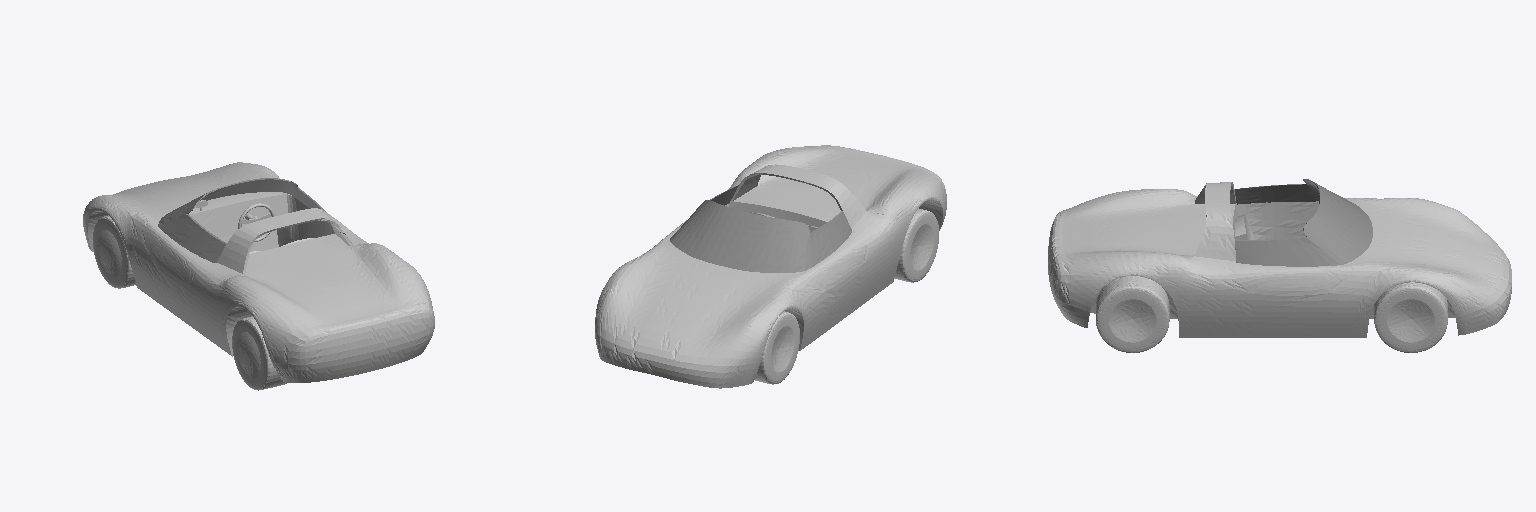
Rendered from car.obj.
The picture shows the model from 3 angles: view 1: azimuth 30°, elevation 25°; view 2: azimuth 150°, elevation 25°; view 3: azimuth 270°, elevation 25°; orthographic projection.
Parts seen in each view (by area): view 1: 10603_slot_car_blue_SG_v1_iterations-2; view 2: 10603_slot_car_blue_SG_v1_iterations-2; view 3: 10603_slot_car_blue_SG_v1_iterations-2.
Boxes of the visible parts, box(x1,y1,x2,y2) form: 10603_slot_car_blue_SG_v1_iterations-2: box(83, 162, 434, 390); 10603_slot_car_blue_SG_v1_iterations-2: box(595, 145, 946, 388); 10603_slot_car_blue_SG_v1_iterations-2: box(1048, 179, 1511, 352).
Bounding box in the file's own units: 2.05 × 1.39 × 4.96.